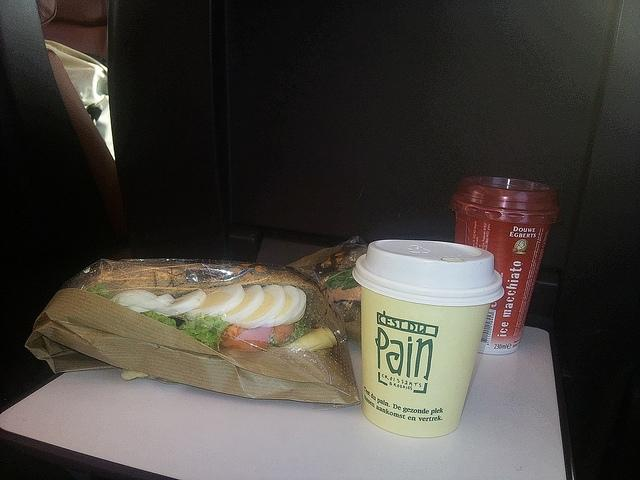lettuce: (268, 316, 315, 348), (326, 267, 359, 290), (196, 327, 223, 351), (141, 311, 177, 329), (82, 283, 115, 300), (176, 318, 198, 340), (190, 318, 214, 338)
